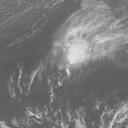cyclone: (59, 20, 108, 67)
